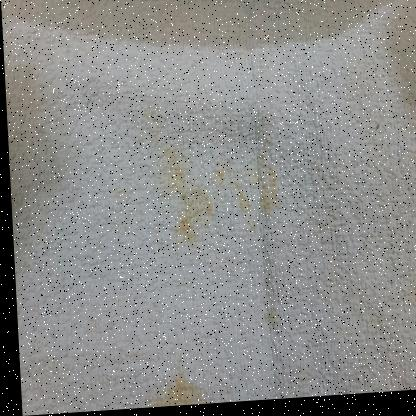spot: (143, 89, 206, 252), (176, 147, 286, 231), (195, 157, 285, 195), (131, 367, 205, 408), (257, 305, 279, 328)
